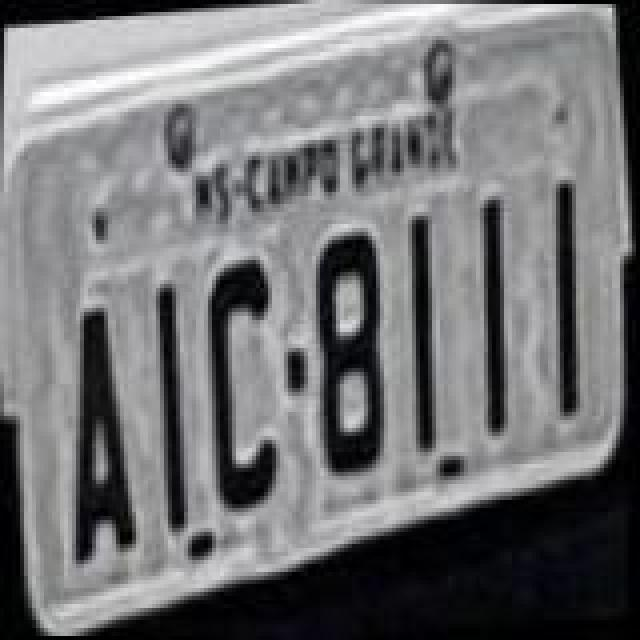1: (456, 190, 528, 442), (386, 204, 454, 456), (530, 170, 598, 414), (138, 278, 202, 534)
8: (300, 224, 404, 480)
A: (44, 304, 148, 568)
C: (190, 250, 294, 514)
